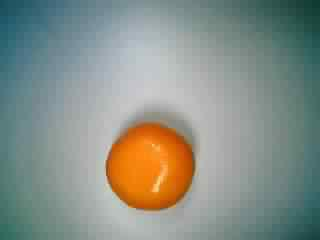orange: (100, 115, 197, 213)
